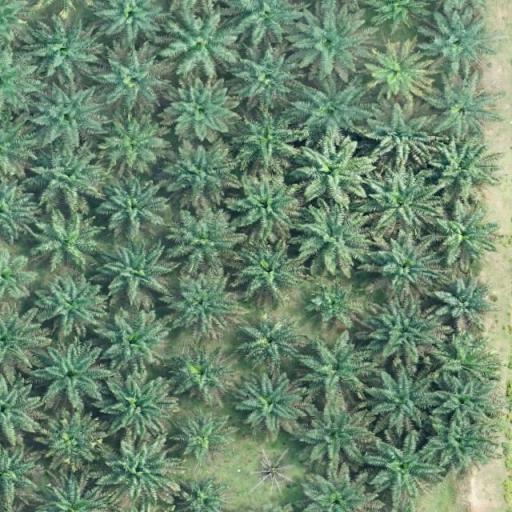Ganoderma: (376, 49, 419, 92)
